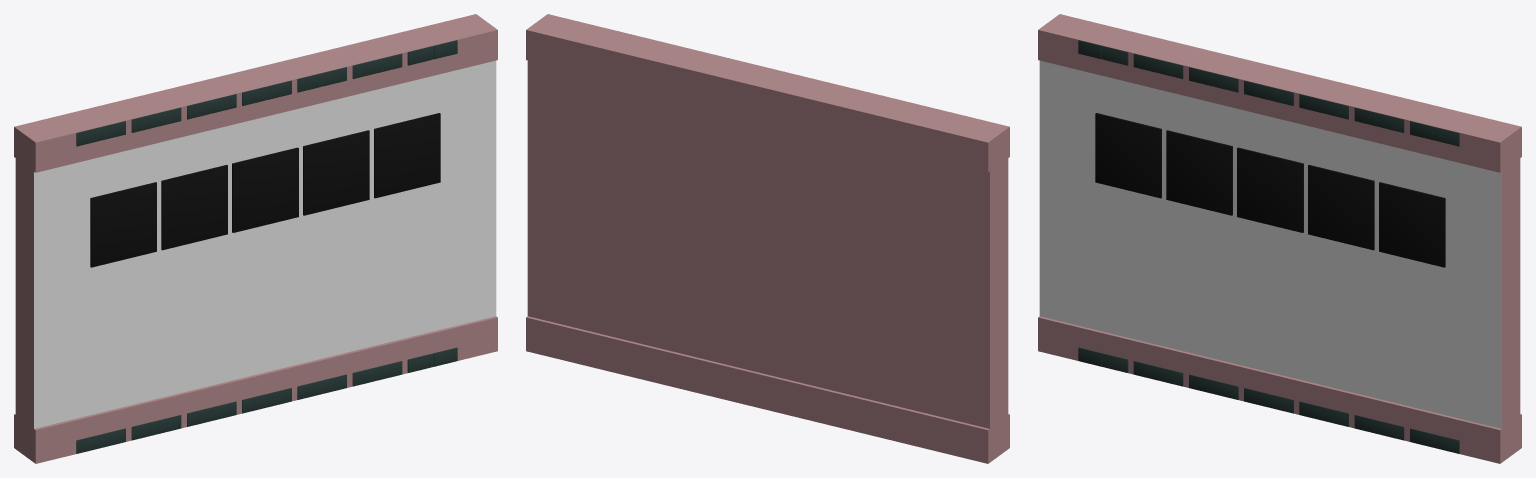
File: Back wall.FBX
The picture shows the model from 3 angles, left to right: view 1: azimuth 30°, elevation 25°; view 2: azimuth 150°, elevation 25°; view 3: azimuth 330°, elevation 25°; orthographic projection.
Parts seen in each view (by area): view 1: BackWall001; view 2: BackWall001; view 3: BackWall001.
Boxes of the visible parts, x1,y1,x2,y2 form: BackWall001: (14, 14, 497, 463); BackWall001: (526, 14, 1009, 463); BackWall001: (1038, 14, 1521, 463).
Bounding box in the file's own units: 1506 × 1000 × 125.
